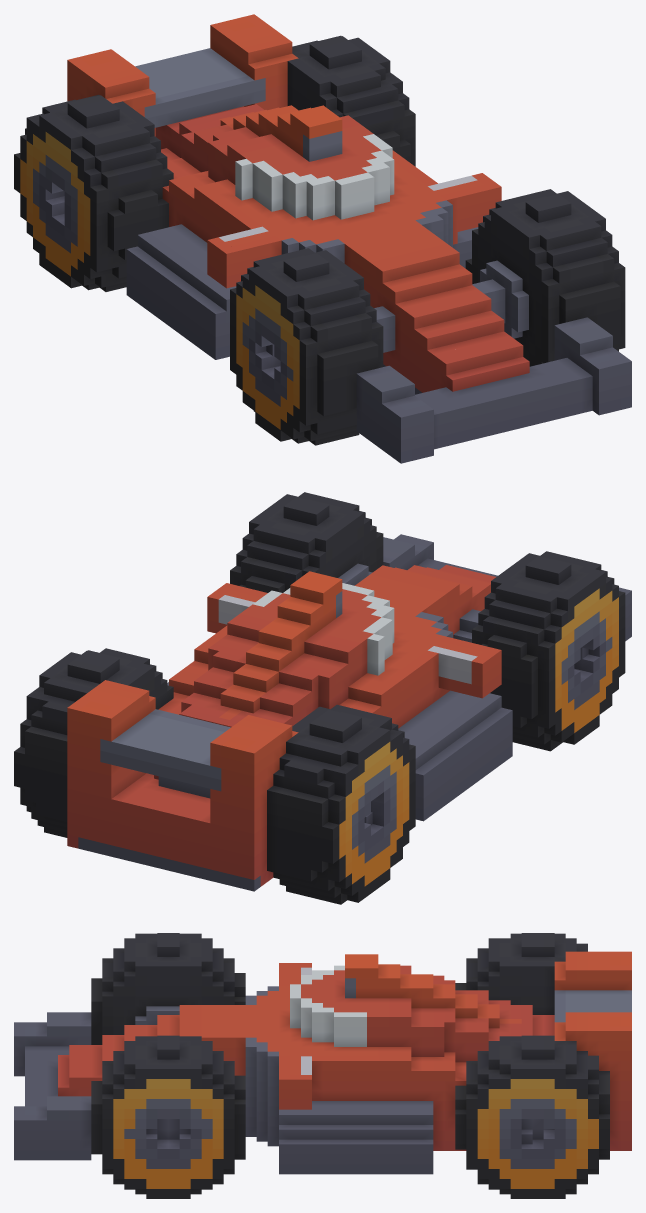
Rendered from race_car.glb.
3 views of the same model, one above another, from view 1: azimuth 30°, elevation 25°; view 2: azimuth 150°, elevation 25°; view 3: azimuth 270°, elevation 25° (orthographic). The views are drawn at different scales.
Visible parts, largest first — view 1: voxels; view 2: voxels; view 3: voxels.
Part boxes in pixels (x1=…): voxels: x1=14, y1=14, x2=631, y2=463; voxels: x1=14, y1=492, x2=631, y2=904; voxels: x1=14, y1=933, x2=631, y2=1198.
Bounding box in the file's own units: 1.33 × 0.7785 × 2.56.
